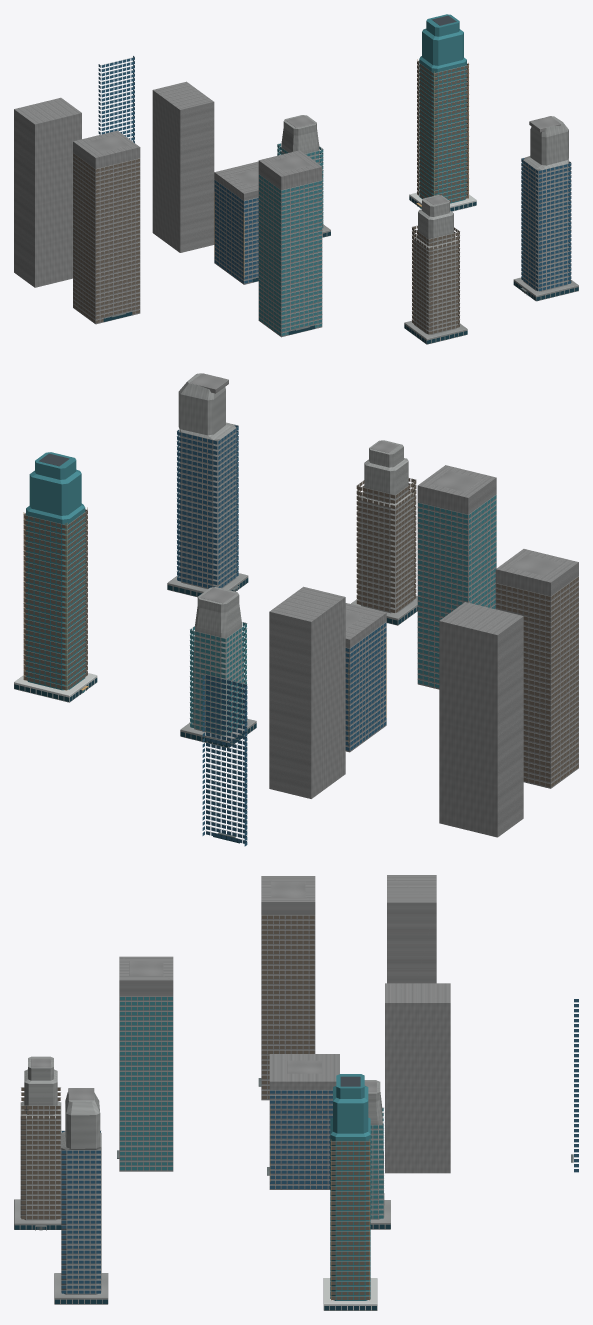
The model's file is cell_3_-4_lod1.gltf.
3 views of the same model, one above another, from view 1: azimuth 30°, elevation 25°; view 2: azimuth 150°, elevation 25°; view 3: azimuth 270°, elevation 25° (orthographic). The views are drawn at different scales.
Visible parts, largest first — view 1: MASS_EKO_008, EKO_BATCH_EKO_|_smoked_bronze_glass, EKO_ENTRY_DOOR_EKO_RESIDENCE_COURT_06, EKO_BOUTIQUE_HOTEL_03, EKO_RETAIL_PODIUM_EKO_RESIDENCE_COURT_06, EKO_BATCH_EKO_|_deep_Atlantic_blue_glass, EKO_CROWN_EKO_BOUTIQUE_HOTEL_03, EKO_ENTRY_PIER_A_EKO_BOUTIQUE_HOTEL_03, EKO_BATCH_EKO_|_retail_storefront_glass, EKO_ENTRY_CANOPY_EKO_RESIDENCE_COURT_06; view 2: MASS_EKO_008, EKO_BATCH_EKO_|_smoked_bronze_glass, EKO_ENTRY_DOOR_EKO_RESIDENCE_COURT_06, EKO_BOUTIQUE_HOTEL_03, EKO_BATCH_EKO_|_deep_Atlantic_blue_glass, EKO_RETAIL_PODIUM_EKO_RESIDENCE_COURT_06, EKO_CROWN_EKO_BOUTIQUE_HOTEL_03, EKO_ENTRY_PIER_A_EKO_BOUTIQUE_HOTEL_03, EKO_BATCH_EKO_|_retail_storefront_glass, EKO_ENTRY_CANOPY_EKO_RESIDENCE_COURT_06; view 3: MASS_EKO_008, EKO_BATCH_EKO_|_smoked_bronze_glass, EKO_ENTRY_DOOR_EKO_RESIDENCE_COURT_06, EKO_BOUTIQUE_HOTEL_03, EKO_BATCH_EKO_|_deep_Atlantic_blue_glass, EKO_RETAIL_PODIUM_EKO_RESIDENCE_COURT_06, EKO_CROWN_EKO_BOUTIQUE_HOTEL_03, EKO_ENTRY_PIER_A_EKO_BOUTIQUE_HOTEL_03, EKO_BATCH_EKO_|_retail_storefront_glass.
Part boxes in pixels (x1,y1,x2,y2): MASS_EKO_008: (14, 81, 322, 337); EKO_BATCH_EKO_|_smoked_bronze_glass: (73, 61, 468, 334); EKO_ENTRY_DOOR_EKO_RESIDENCE_COURT_06: (259, 14, 466, 335); EKO_BOUTIQUE_HOTEL_03: (281, 115, 569, 334); EKO_RETAIL_PODIUM_EKO_RESIDENCE_COURT_06: (73, 57, 571, 333); EKO_BATCH_EKO_|_deep_Atlantic_blue_glass: (98, 56, 571, 291); EKO_CROWN_EKO_BOUTIQUE_HOTEL_03: (87, 115, 560, 205); EKO_ENTRY_PIER_A_EKO_BOUTIQUE_HOTEL_03: (322, 224, 578, 344); EKO_BATCH_EKO_|_retail_storefront_glass: (103, 196, 578, 343); EKO_ENTRY_CANOPY_EKO_RESIDENCE_COURT_06: (214, 59, 468, 277); MASS_EKO_008: (269, 465, 578, 837); EKO_BATCH_EKO_|_smoked_bronze_glass: (23, 478, 578, 787); EKO_ENTRY_DOOR_EKO_RESIDENCE_COURT_06: (26, 452, 496, 735); EKO_BOUTIQUE_HOTEL_03: (178, 373, 413, 735); EKO_BATCH_EKO_|_deep_Atlantic_blue_glass: (177, 425, 386, 846); EKO_RETAIL_PODIUM_EKO_RESIDENCE_COURT_06: (14, 424, 578, 840); EKO_CROWN_EKO_BOUTIQUE_HOTEL_03: (190, 373, 561, 628); EKO_ENTRY_PIER_A_EKO_BOUTIQUE_HOTEL_03: (167, 573, 417, 748); EKO_BATCH_EKO_|_retail_storefront_glass: (14, 578, 417, 843); EKO_ENTRY_CANOPY_EKO_RESIDENCE_COURT_06: (23, 507, 386, 743); MASS_EKO_008: (119, 875, 450, 1189); EKO_BATCH_EKO_|_smoked_bronze_glass: (21, 915, 370, 1299); EKO_ENTRY_DOOR_EKO_RESIDENCE_COURT_06: (120, 997, 383, 1300); EKO_BOUTIQUE_HOTEL_03: (20, 1056, 384, 1294); EKO_BATCH_EKO_|_deep_Atlantic_blue_glass: (61, 999, 578, 1293); EKO_RETAIL_PODIUM_EKO_RESIDENCE_COURT_06: (21, 915, 383, 1310); EKO_CROWN_EKO_BOUTIQUE_HOTEL_03: (31, 881, 376, 1101); EKO_ENTRY_PIER_A_EKO_BOUTIQUE_HOTEL_03: (14, 1199, 390, 1304); EKO_BATCH_EKO_|_retail_storefront_glass: (14, 1224, 390, 1310).
Size of the model in its own units: 424 by 178 by 420.
Materials: 10 (3 with a texture image).
